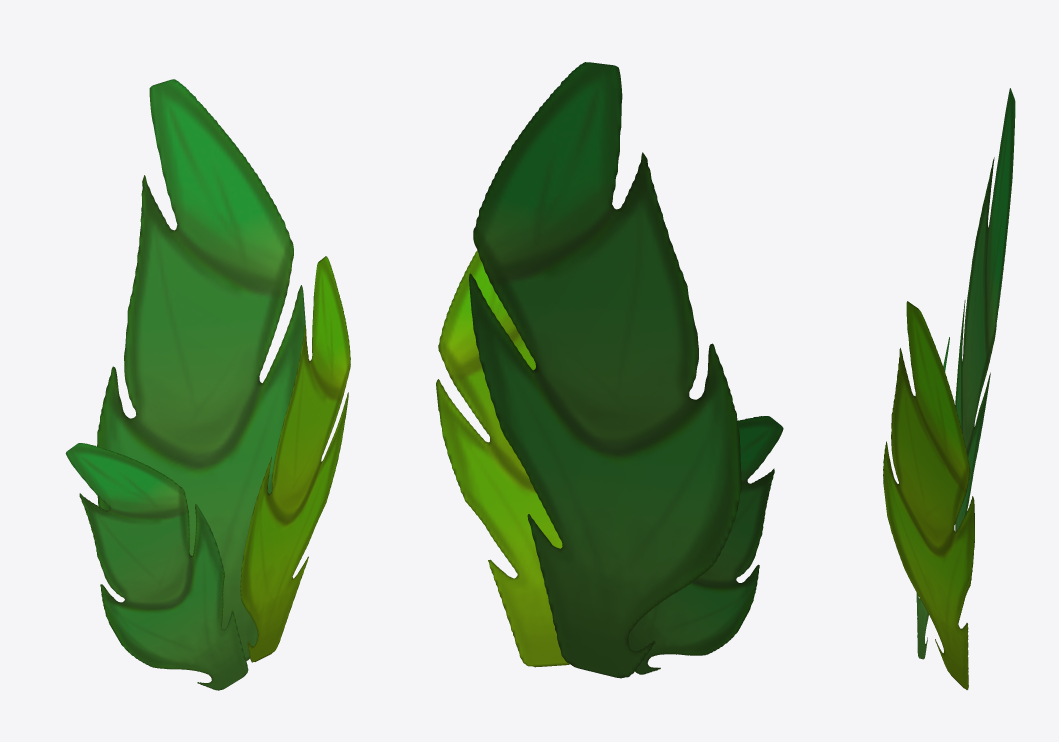
The model's file is 14_Hojitas.fbx.
3 renders of one model, left to right at view 1: azimuth 30°, elevation 25°; view 2: azimuth 150°, elevation 25°; view 3: azimuth 270°, elevation 25°, orthographic. The views are drawn at different scales.
Parts seen in each view (by area): view 1: Follage.079; view 2: Follage.079; view 3: Follage.079.
Boxes of the visible parts, <box> form: Follage.079: <box>65,79,350,690</box>; Follage.079: <box>436,62,783,678</box>; Follage.079: <box>883,88,1015,689</box>.
Size of the model in its own units: 22.52 by 37.01 by 9.8.
